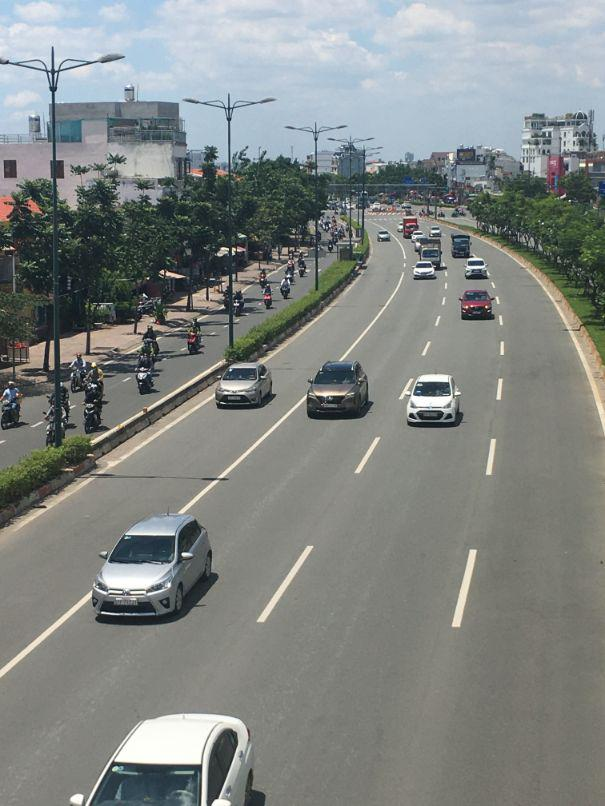car: (48, 713, 279, 805), (90, 513, 216, 622), (306, 359, 369, 420), (405, 369, 463, 427), (217, 363, 275, 412), (460, 287, 496, 320), (466, 258, 489, 279), (413, 264, 437, 281), (377, 231, 391, 244)
motorbike: (0, 391, 24, 429), (137, 368, 160, 395)
truck: (452, 233, 473, 258)
